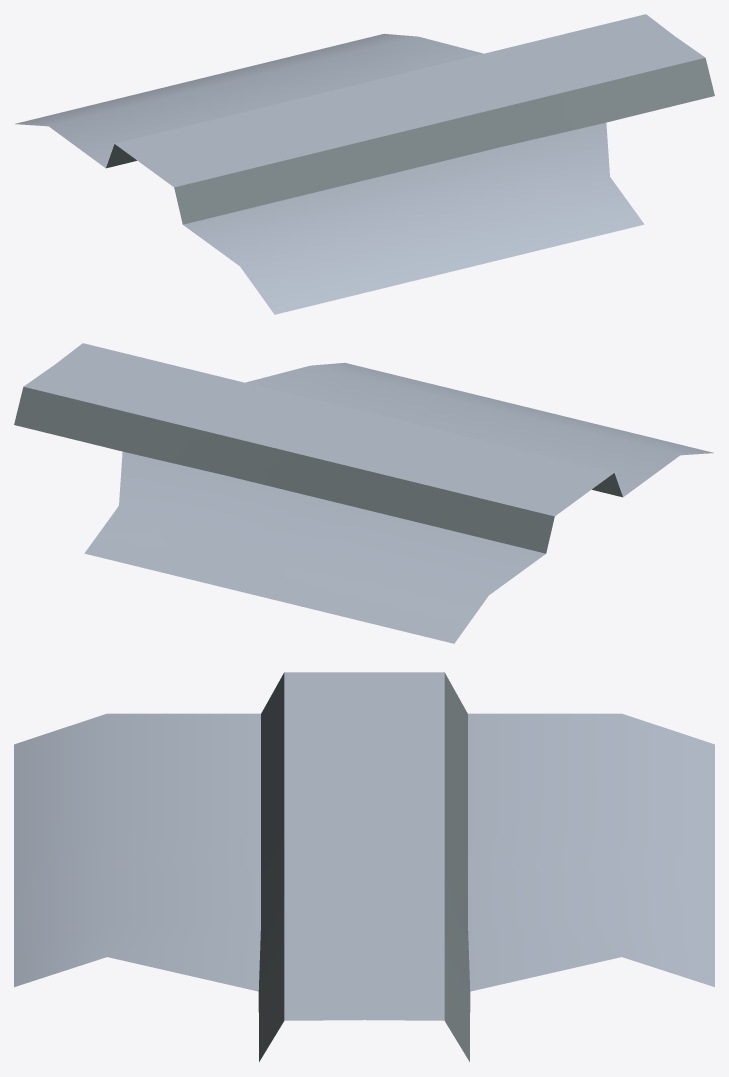
File: TrashMan Ceiling.fbx
3 renders of one model, top to bottom at view 1: azimuth 30°, elevation 25°; view 2: azimuth 150°, elevation 25°; view 3: azimuth 270°, elevation 25°, orthographic. The views are drawn at different scales.
Parts seen in each view (by area): view 1: Trash man Ceiling; view 2: Trash man Ceiling; view 3: Trash man Ceiling.
Part boxes in pixels (x1,y1,x2,y2): Trash man Ceiling: (15,14,714,314); Trash man Ceiling: (14,343,713,643); Trash man Ceiling: (14,672,714,1061).
Size of the model in its own units: 9424 by 913 by 8006.
